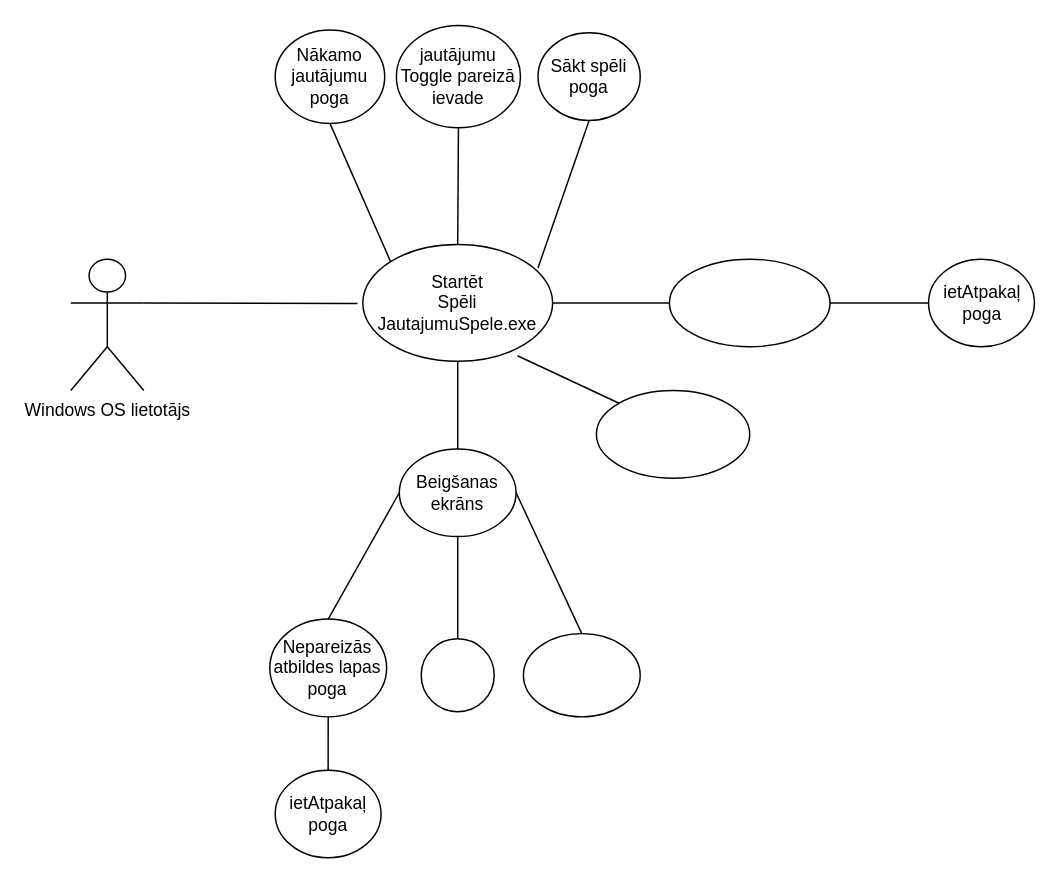
The diagram is 1060 pixels wide and 883 high, and some of its shapes have lost their labels. The centre of each missing label's shape, as x and y in pixels:
"Apturēt Spēles bērniem.exe" goes at (672,433).
"Apturēšanas poga" goes at (581,674).
"Atvert Noteikumu Lapu" goes at (749,302).
"Retry poga" goes at (457,674).
